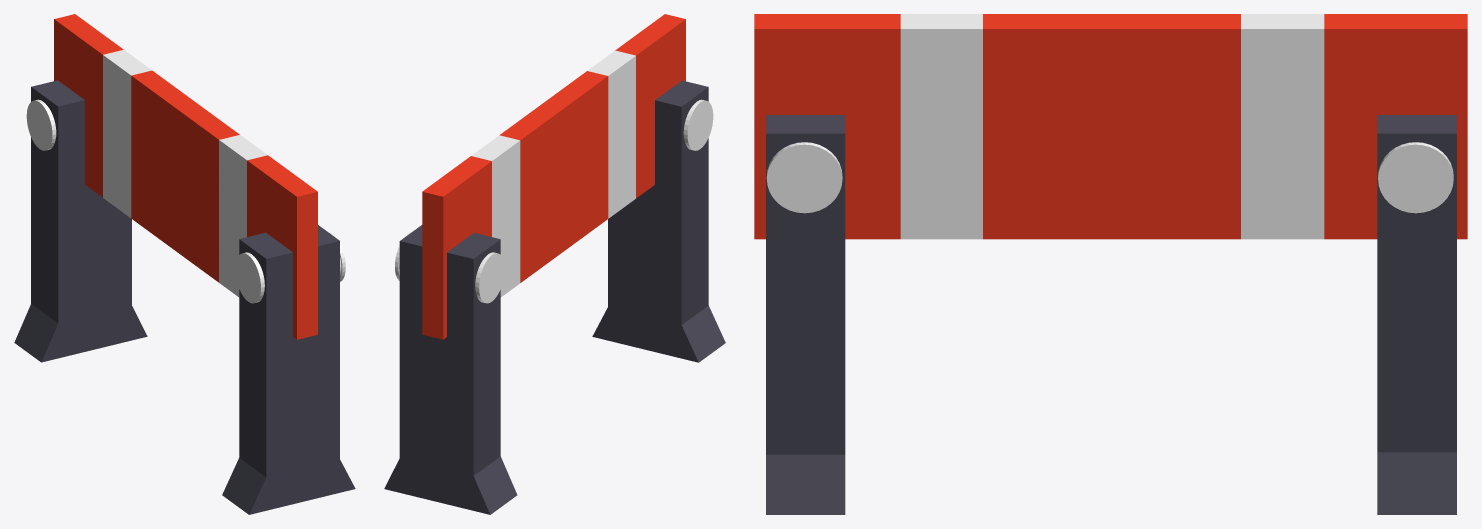
File: defJumpBarr.fbx
3 views of the same model, side by side, from view 1: azimuth 30°, elevation 25°; view 2: azimuth 150°, elevation 25°; view 3: azimuth 270°, elevation 25° (orthographic). The views are drawn at different scales.
Parts seen in each view (by area): view 1: Cylinder.003; view 2: Cylinder.003; view 3: Cylinder.003.
Part boxes in pixels (x1,y1,x2,y2): Cylinder.003: (14,14,355,514); Cylinder.003: (384,14,725,514); Cylinder.003: (754,14,1467,514).
Size of the model in its own units: 50.74 by 141 by 200.
Materials: 2 (2 with a texture image).
